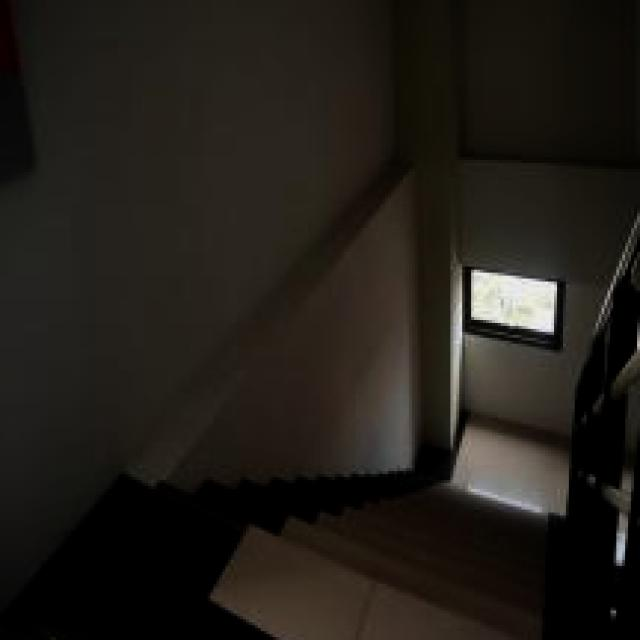downstair: (226, 484, 478, 632)
